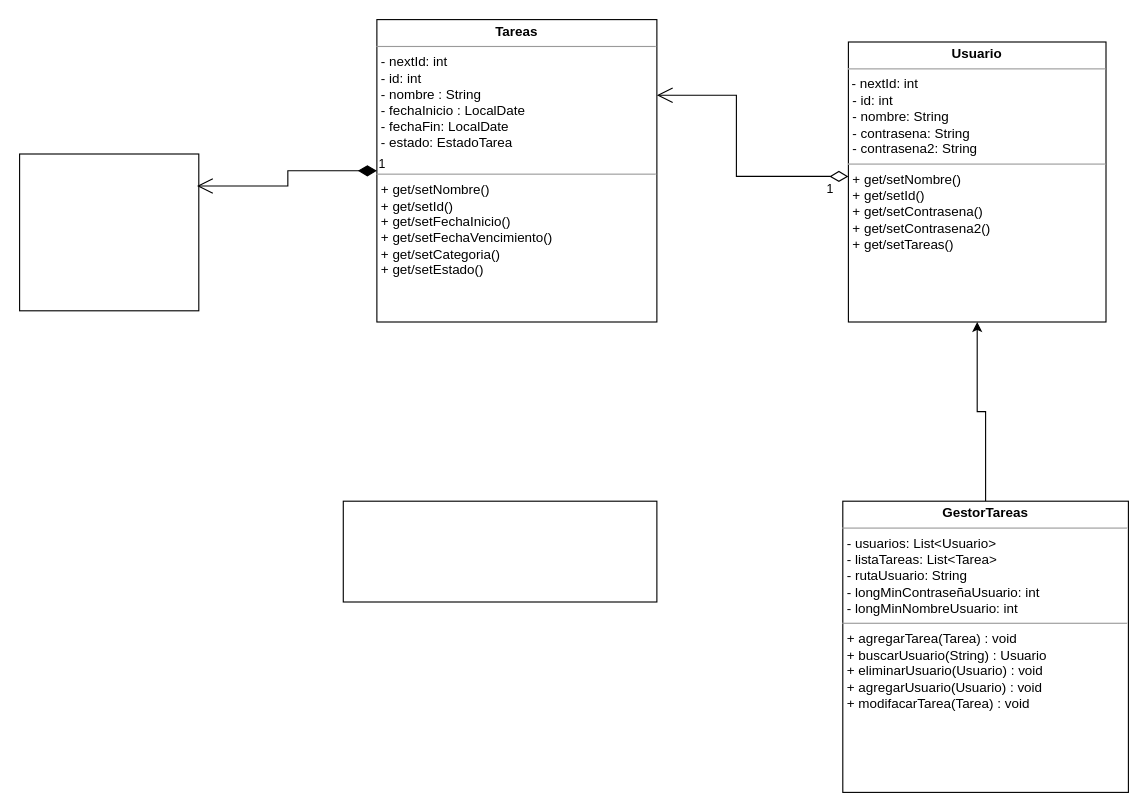
The diagram is 1148 pixels wide and 812 high, and some of its shapes have lost their labels. Each missing label, with the centre of its shape:
"<< Enum>> EstadoTarea EN_ESPERA EN_PROCESO FINALIZADO" belongs at [108,232].
"UsuarioFrame - contadorInterno: int - gestorRasilu: GestorRasilu" belongs at [499,551].
